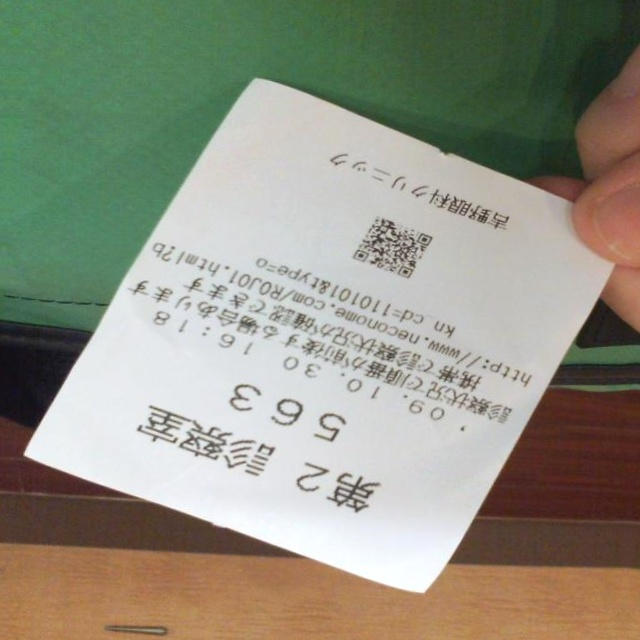qr-code: (352, 215, 434, 280)
